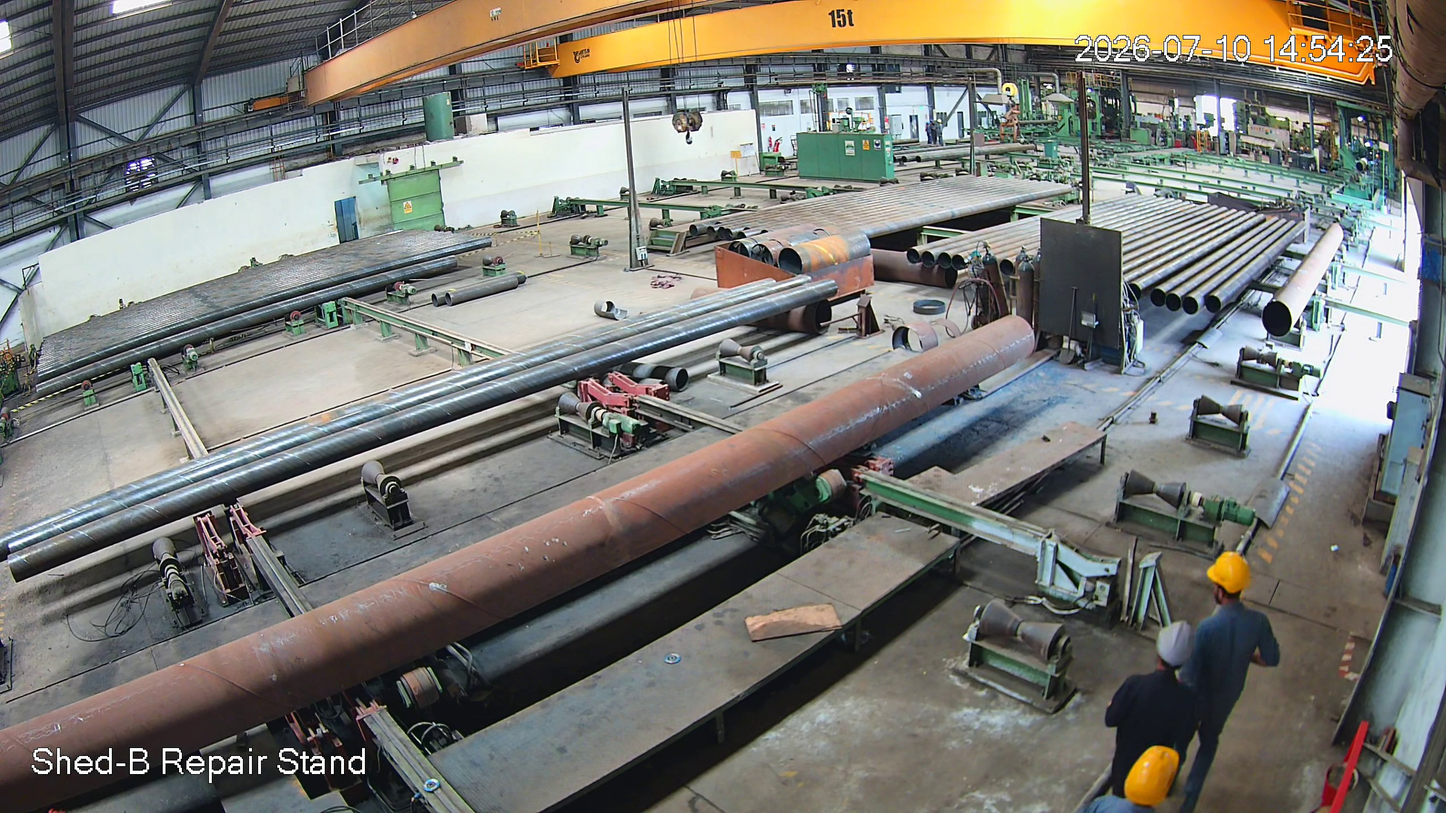Helmet: (1093, 730, 1236, 813), (1201, 545, 1274, 620), (1144, 607, 1209, 681)
Person: (1187, 552, 1295, 755), (1096, 617, 1217, 774), (1048, 738, 1252, 813)
